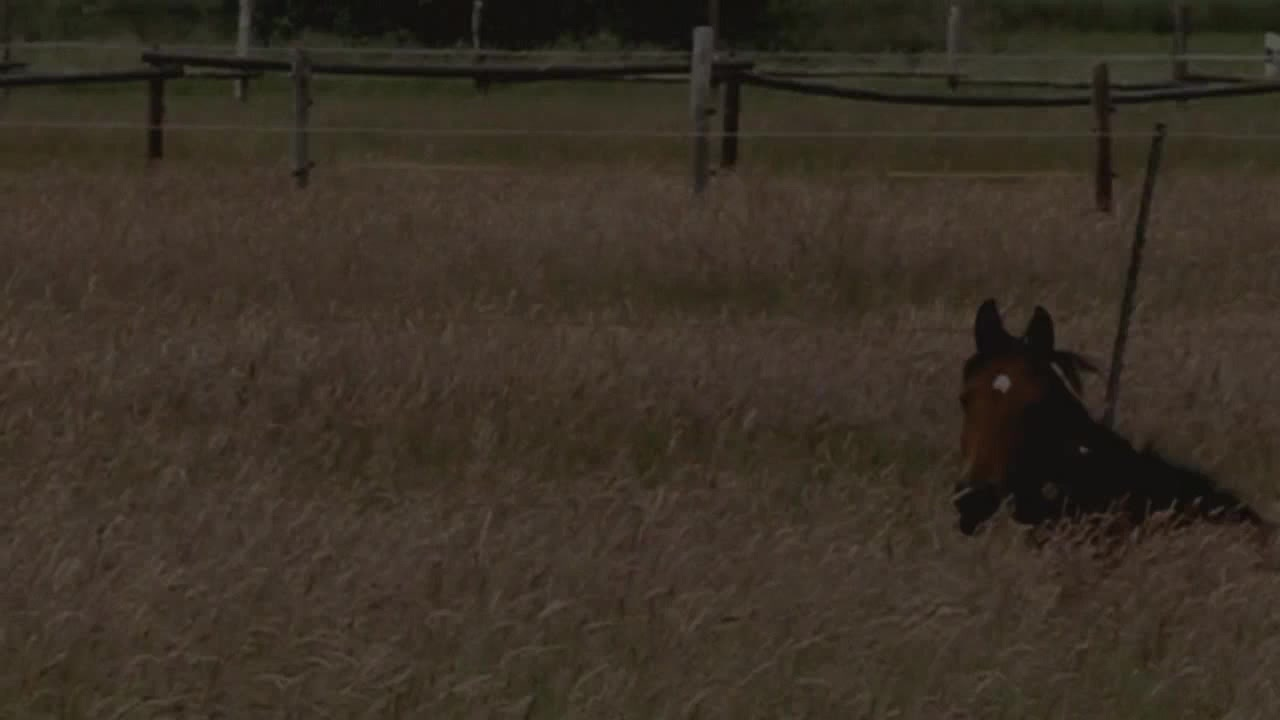horse: (950, 295, 1278, 559)
